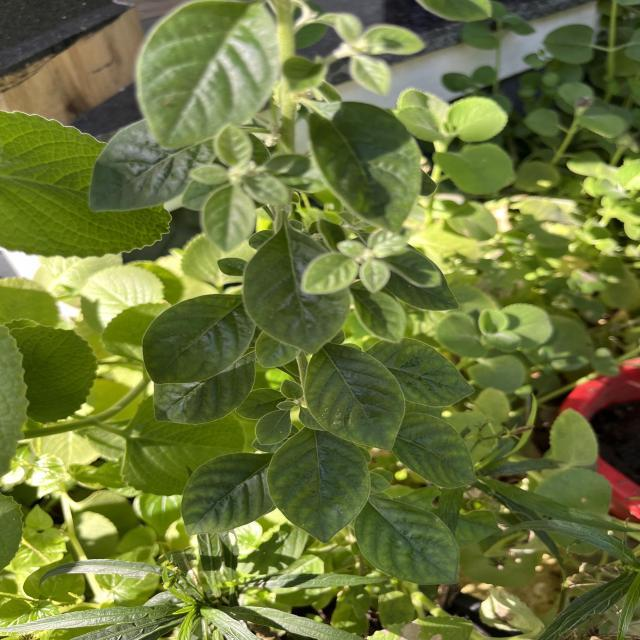Aerva lanata: (265, 424, 373, 546), (300, 344, 410, 454), (138, 293, 258, 387), (352, 494, 462, 588), (363, 336, 478, 409), (179, 450, 275, 537), (388, 410, 479, 490)
